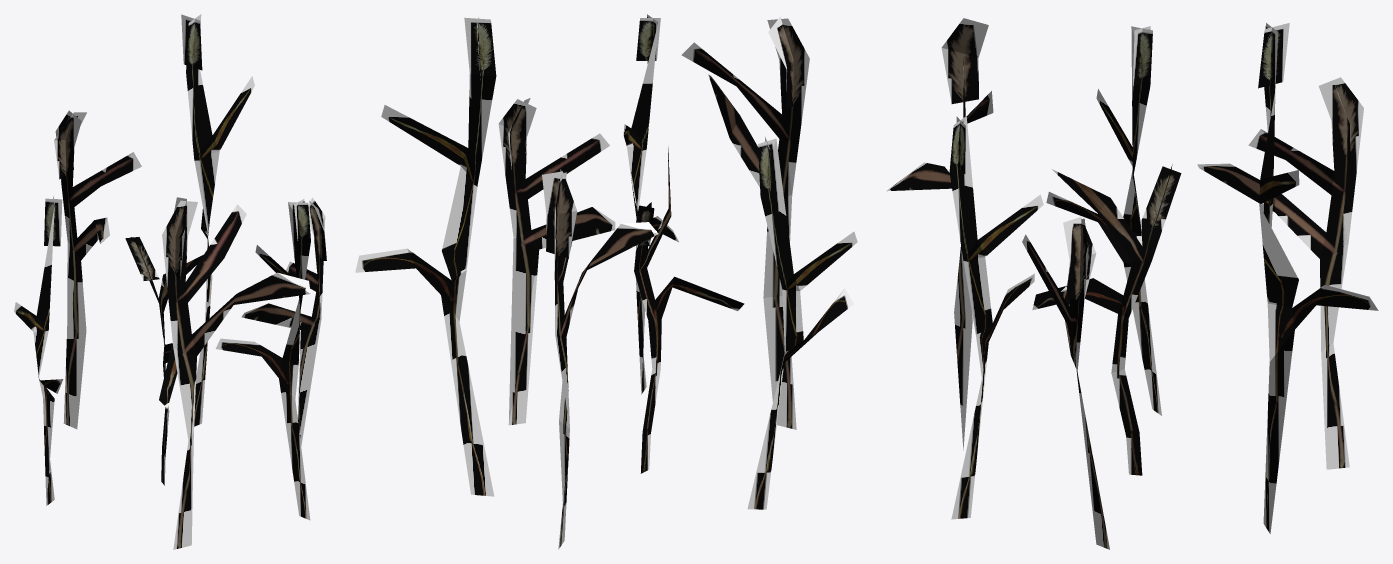
File: Ear_LOD1.fbx
3 views of the same model, side by side, from view 1: azimuth 30°, elevation 25°; view 2: azimuth 150°, elevation 25°; view 3: azimuth 270°, elevation 25° (orthographic). The views are drawn at different scales.
Visible parts, largest first — view 1: Ear_LOD1; view 2: Ear_LOD1; view 3: Ear_LOD1.
Part boxes in pixels (bbox=[...]): Ear_LOD1: bbox=[14, 14, 326, 549]; Ear_LOD1: bbox=[355, 14, 857, 549]; Ear_LOD1: bbox=[886, 18, 1378, 549].
Bounding box in the file's own units: 0.4415 × 0.5315 × 0.471.
